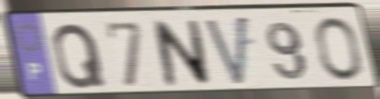7: (102, 20, 145, 90)
9: (263, 19, 308, 81)
N: (150, 18, 213, 88)
O: (312, 15, 365, 83)
Q: (51, 21, 109, 92)
V: (201, 13, 251, 90)
